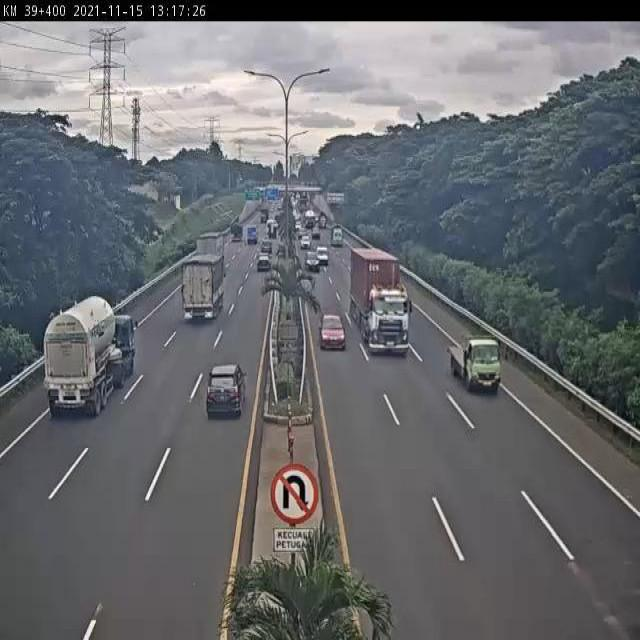big truck: (349, 248, 411, 357)
bus-s-: (316, 246, 329, 266)
car: (203, 363, 246, 420), (318, 314, 347, 349), (304, 252, 320, 272), (258, 254, 271, 270)
truck-l-: (46, 293, 137, 415)
truck-m-: (184, 252, 226, 324), (197, 232, 229, 273)
truck-s-: (449, 334, 504, 390)
